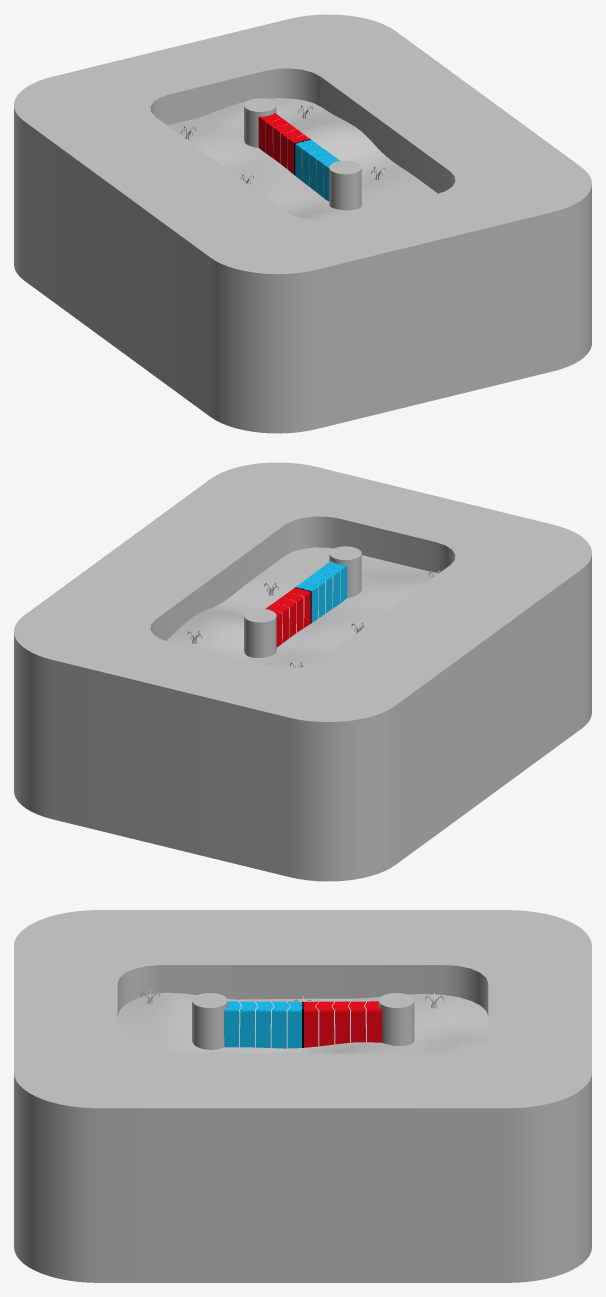
File: allplatforms03.fbx
The picture shows the model from 3 angles, top to bottom: view 1: azimuth 30°, elevation 25°; view 2: azimuth 150°, elevation 25°; view 3: azimuth 270°, elevation 25°; orthographic projection. The views are drawn at different scales.
Visible parts, largest first — view 1: Cube.001, Cube.012, Cylinder, Cylinder.002; view 2: Cube.001, Cube.012, Cylinder.002, Cylinder; view 3: Cube.001, Cube.012, Cylinder, Cylinder.002, Cylinder.029, Cylinder.030, Cylinder.031, Cylinder.032, Cylinder.026, Cylinder.028, Cylinder.027, Cylinder.025 (+3 smaller).
Part boxes in pixels (x1,y1,x2,y2): Cube.001: [14, 14, 591, 433]; Cube.012: [167, 98, 437, 219]; Cylinder: [329, 160, 361, 210]; Cylinder.002: [244, 98, 276, 147]; Cube.001: [14, 462, 591, 881]; Cube.012: [166, 547, 437, 667]; Cylinder.002: [244, 608, 276, 657]; Cylinder: [329, 546, 361, 597]; Cube.001: [14, 910, 591, 1282]; Cube.012: [117, 992, 488, 1053]; Cylinder: [192, 993, 227, 1049]; Cylinder.002: [378, 993, 414, 1045]; Cylinder.029: [271, 1001, 289, 1048]; Cylinder.030: [255, 1001, 273, 1047]; Cylinder.031: [240, 1001, 257, 1047]; Cylinder.032: [224, 1001, 240, 1047]; Cylinder.026: [316, 1001, 334, 1046]; Cylinder.028: [287, 1001, 302, 1048]; Cylinder.027: [303, 1001, 318, 1047]; Cylinder.025: [332, 1001, 350, 1044].
Size of the model in its own units: 17453 by 7522 by 21499.
